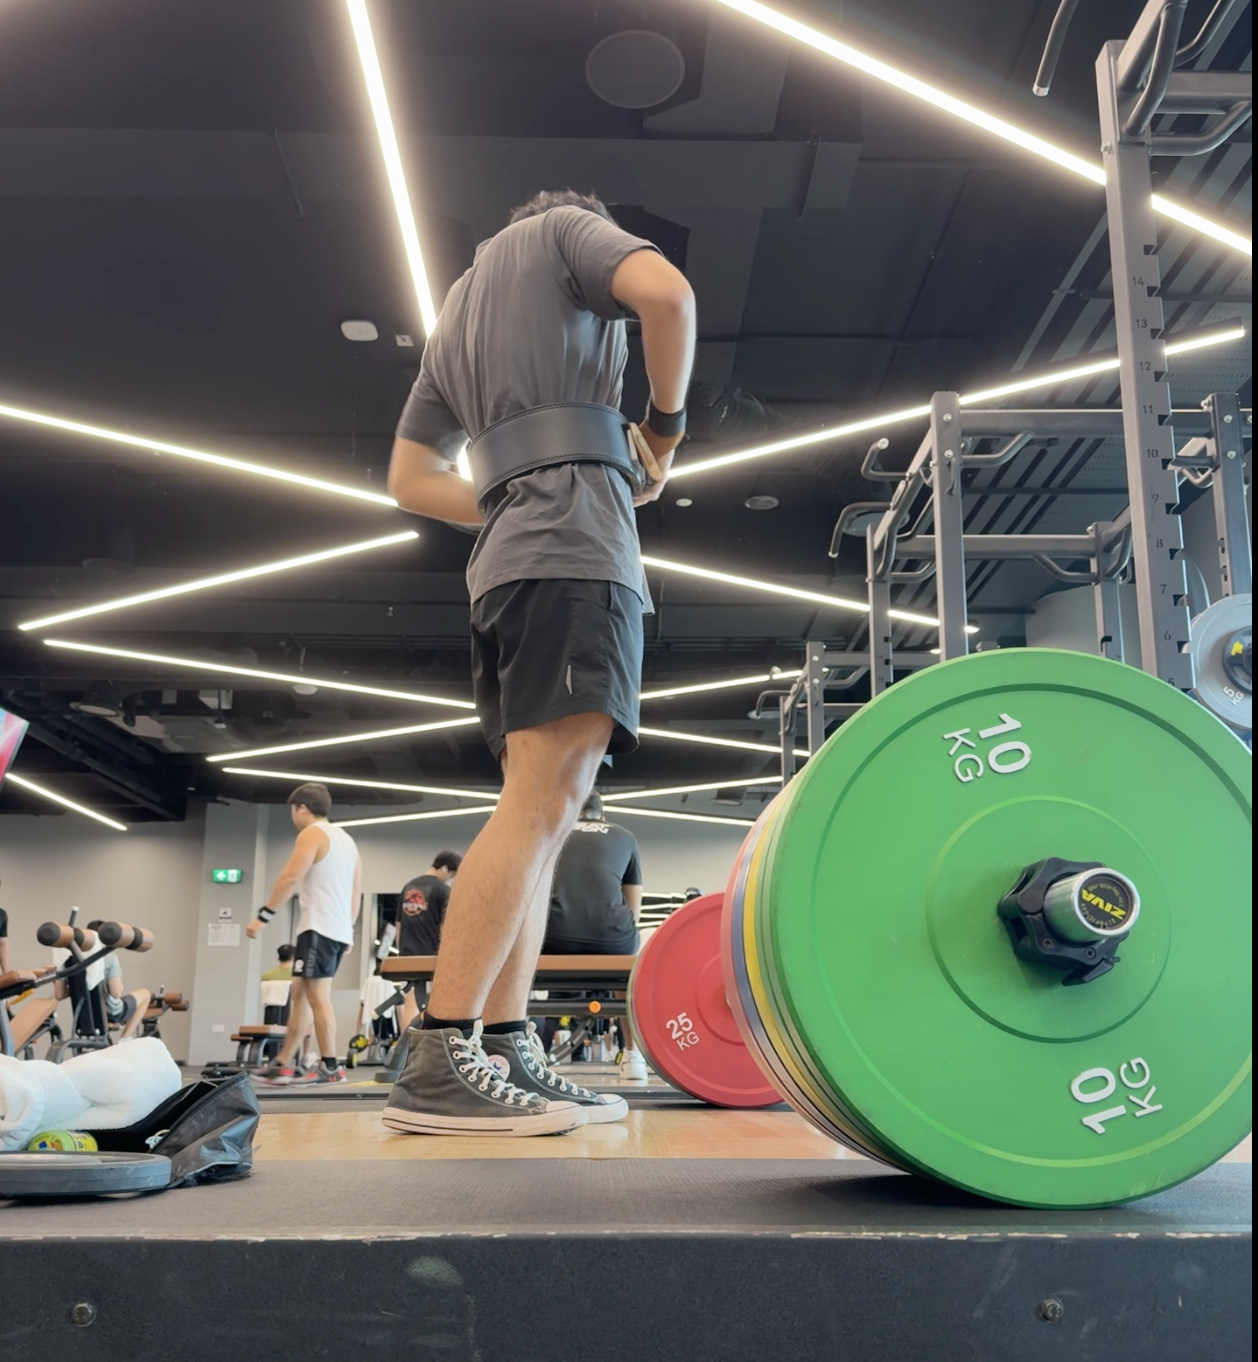barbell: (1056, 857, 1139, 961)
